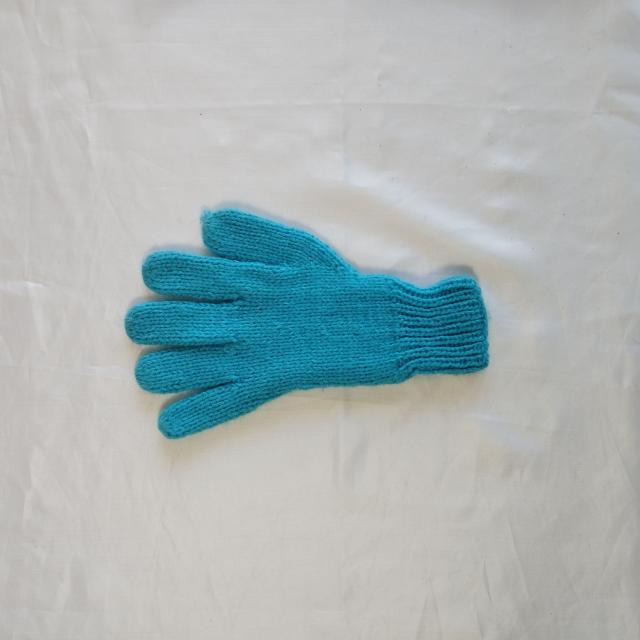Guante: (124, 206, 490, 440)
